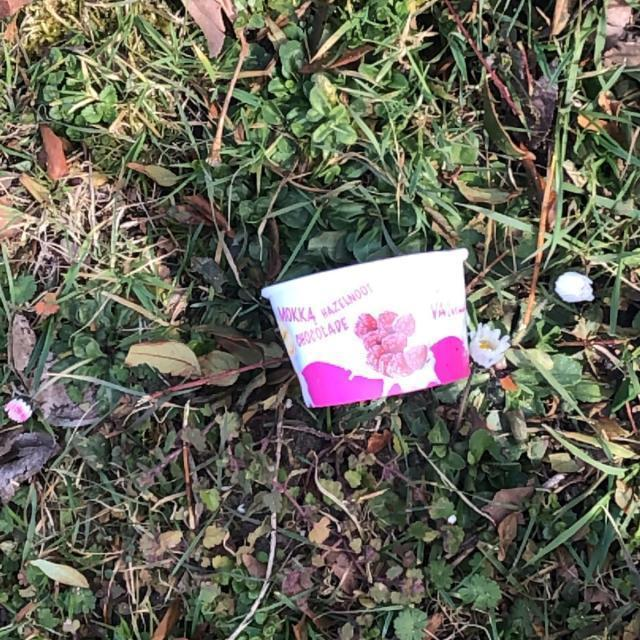Paper: (253, 249, 470, 407)
